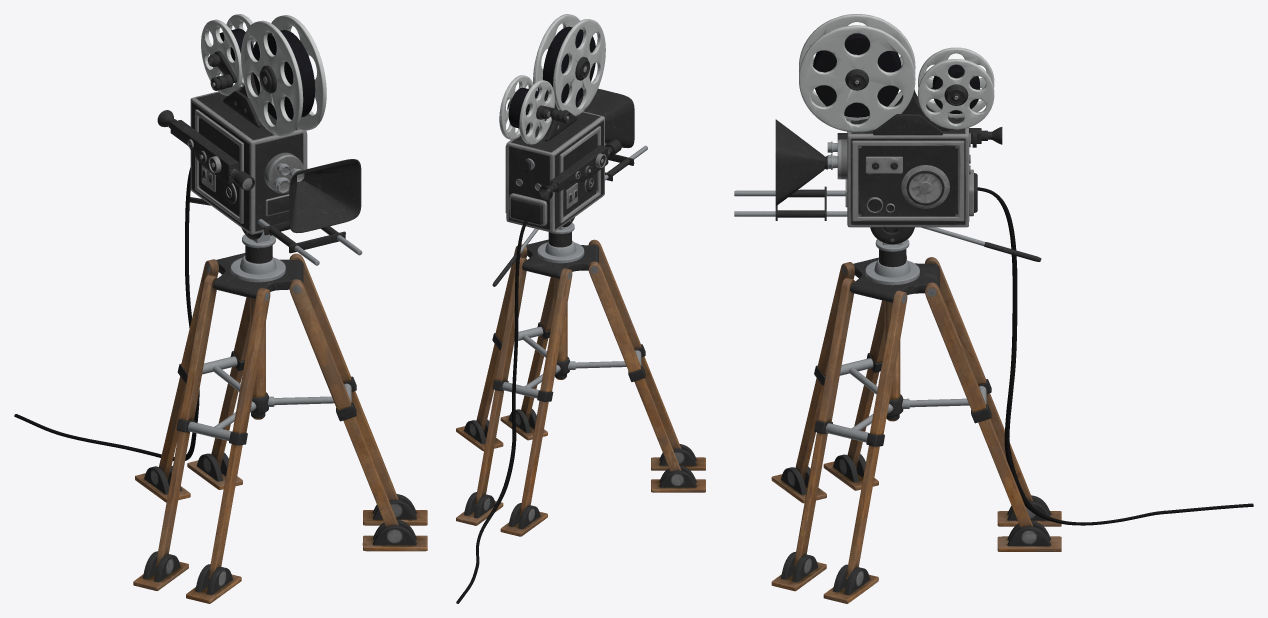
Rendered from old_vintage_film_camera.opt.glb.
3 views of the same model, side by side, from view 1: azimuth 30°, elevation 25°; view 2: azimuth 150°, elevation 25°; view 3: azimuth 270°, elevation 25° (orthographic). The views are drawn at different scales.
Parts seen in each view (by area): view 1: pCylinder14_BlenderMat_0; view 2: pCylinder14_BlenderMat_0; view 3: pCylinder14_BlenderMat_0.
Boxes of the visible parts, x1=… form: pCylinder14_BlenderMat_0: x1=14, y1=14, x2=427, y2=603; pCylinder14_BlenderMat_0: x1=456, y1=14, x2=705, y2=603; pCylinder14_BlenderMat_0: x1=734, y1=14, x2=1253, y2=603.
Size of the model in its own units: 41.04 by 69.98 by 63.43.
1 material, 1 textured.
